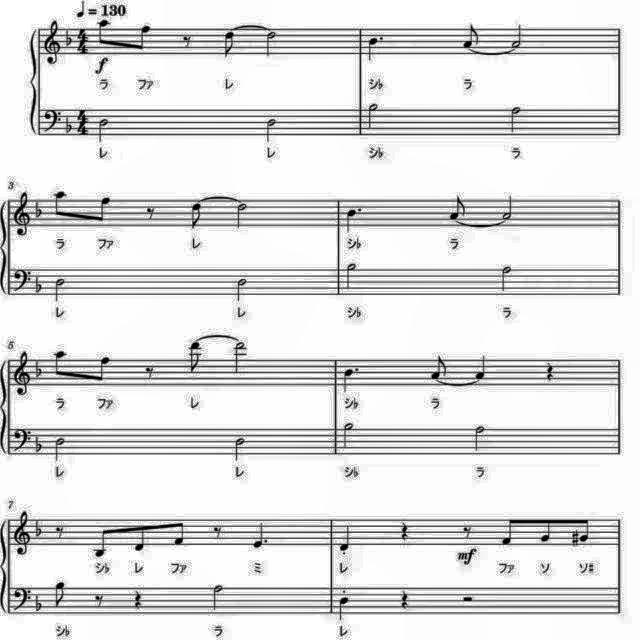Bass-clef: (41, 105, 64, 135), (12, 584, 34, 614), (10, 424, 32, 454), (12, 267, 32, 297)
Bemol: (31, 513, 45, 543), (33, 354, 47, 382), (32, 198, 46, 222), (32, 272, 44, 298), (61, 25, 75, 47), (33, 429, 43, 458), (64, 115, 76, 137), (34, 592, 46, 612)
Eighth-note: (88, 526, 112, 562), (92, 352, 116, 388), (92, 192, 116, 226), (132, 20, 156, 54), (458, 22, 484, 50), (426, 351, 450, 381), (132, 522, 152, 558), (446, 193, 470, 223), (498, 512, 518, 548), (52, 187, 72, 221), (52, 346, 72, 380), (94, 16, 114, 49), (218, 28, 238, 61), (188, 340, 206, 376), (170, 516, 190, 548), (536, 514, 556, 546), (576, 512, 594, 544), (53, 578, 71, 610), (187, 201, 206, 231)
Eighth-rest: (141, 203, 159, 224), (141, 362, 159, 382), (177, 30, 195, 50), (210, 522, 227, 542), (53, 522, 69, 542), (92, 590, 108, 610), (458, 522, 474, 542)
Half-note: (230, 339, 250, 377), (342, 259, 362, 293), (468, 422, 488, 456), (340, 418, 360, 452), (496, 261, 516, 295), (263, 114, 283, 146), (232, 272, 252, 304), (232, 200, 252, 232), (262, 29, 282, 60), (209, 580, 227, 614), (508, 103, 526, 137), (230, 435, 250, 465), (363, 102, 381, 134), (95, 114, 113, 144), (499, 193, 517, 223), (52, 274, 70, 304), (52, 434, 70, 464), (510, 22, 528, 50)
Half-rest: (458, 590, 478, 606)
Quarter-dot: (362, 34, 386, 66), (342, 204, 366, 236), (340, 364, 364, 394), (251, 522, 273, 554)
Quarter-note: (338, 522, 356, 554), (470, 352, 490, 380), (338, 594, 354, 622)
Quarter-rest: (130, 586, 146, 612), (398, 519, 414, 545), (398, 583, 414, 609), (541, 360, 557, 384)
Treble-clef: (41, 17, 64, 67), (11, 348, 34, 398), (11, 509, 33, 559), (11, 191, 33, 241)
